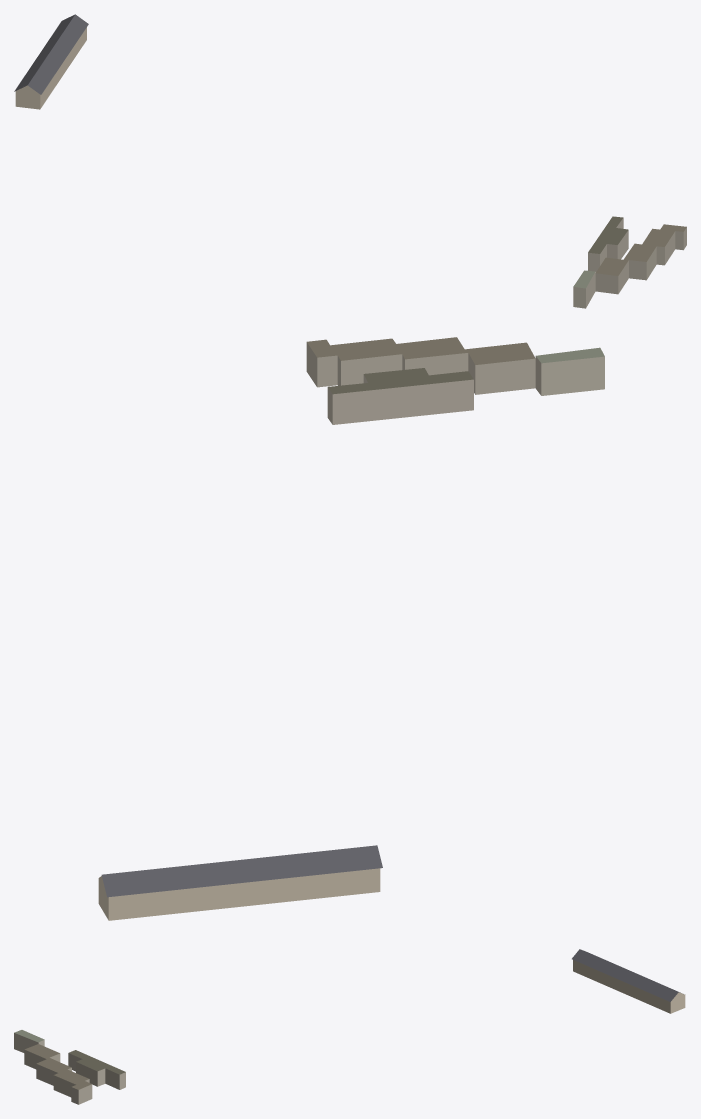
3 views of the same model, one above another, from view 1: azimuth 30°, elevation 25°; view 2: azimuth 150°, elevation 25°; view 3: azimuth 270°, elevation 25° (orthographic). The views are drawn at different scales.
Parts seen in each view (by area): view 1: tuile; view 2: tuile; view 3: tuile.
Part boxes in pixels (<box>): tuile: <box>14,14,686,308</box>; tuile: <box>98,337,604,920</box>; tuile: <box>14,949,685,1104</box>.
Bounding box in the file's own units: 102 × 6.32 × 203.
